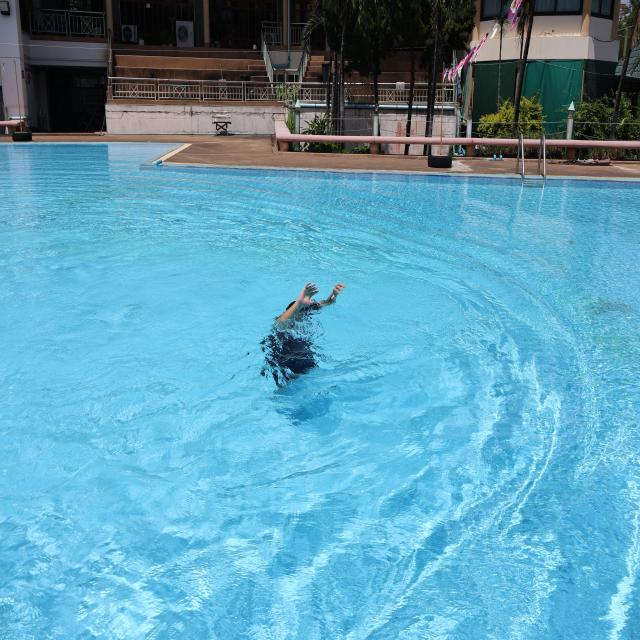Drowning: (259, 256, 364, 414)
